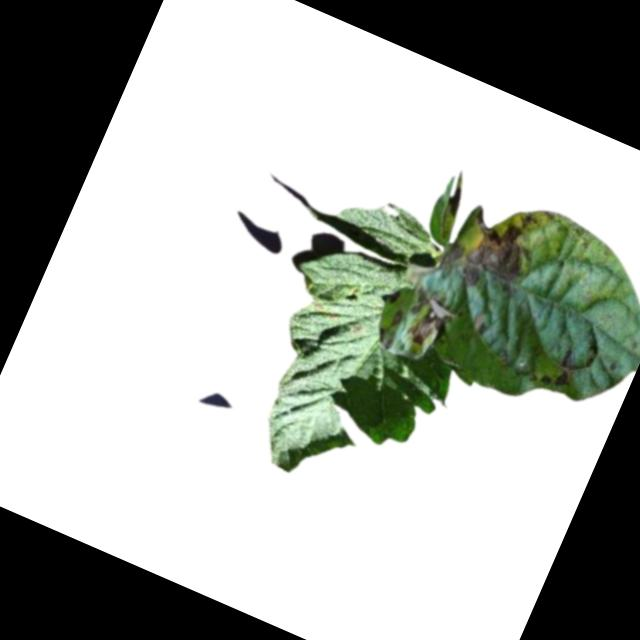Early_blight: (437, 192, 544, 305), (397, 284, 465, 357), (549, 344, 586, 392), (308, 300, 341, 326), (384, 305, 408, 331), (378, 284, 404, 308)
